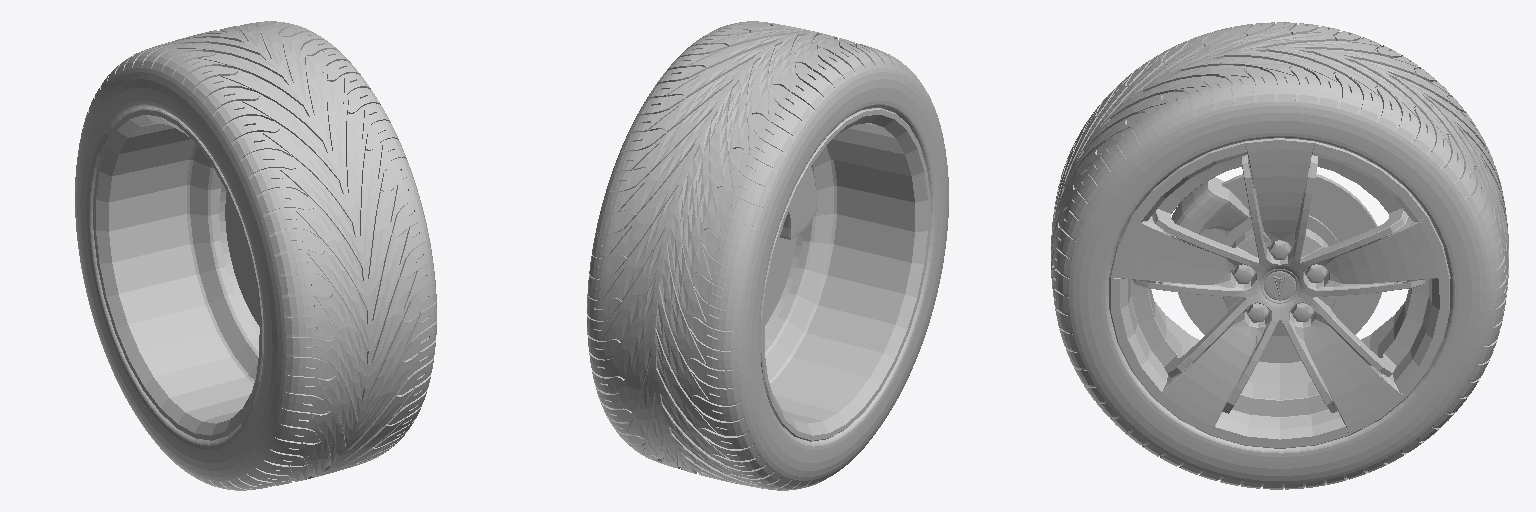
File: modelo_llantati.obj
3 renders of one model, left to right at view 1: azimuth 30°, elevation 25°; view 2: azimuth 150°, elevation 25°; view 3: azimuth 270°, elevation 25°, orthographic.
Visible parts, largest first — view 1: llantati3, llantati1, llantati2; view 2: llantati3, llantati1, llantati2, pasted__Group001_group_pasted__K3_pasted__tire_b_L_pasted__HDM_0; view 3: llantati3, llantati1, llantati2, pasted__Group001_group_pasted__K3_pasted__tire_b_L_pasted__HDM_0.
Part boxes in pixels (x1,y1,x2,y2): llantati3: (75, 21, 436, 490); llantati1: (93, 108, 263, 441); llantati2: (219, 184, 259, 334); llantati3: (587, 21, 948, 490); llantati1: (760, 108, 930, 441); llantati2: (765, 231, 803, 334); pasted__Group001_group_pasted__K3_pasted__tire_b_L_pasted__HDM_0: (780, 167, 817, 239); llantati3: (1051, 22, 1508, 489); llantati1: (1109, 138, 1450, 448); llantati2: (1178, 174, 1381, 362); pasted__Group001_group_pasted__K3_pasted__tire_b_L_pasted__HDM_0: (1171, 178, 1327, 322).
Size of the model in its own units: 1.12 by 2.79 by 2.79.